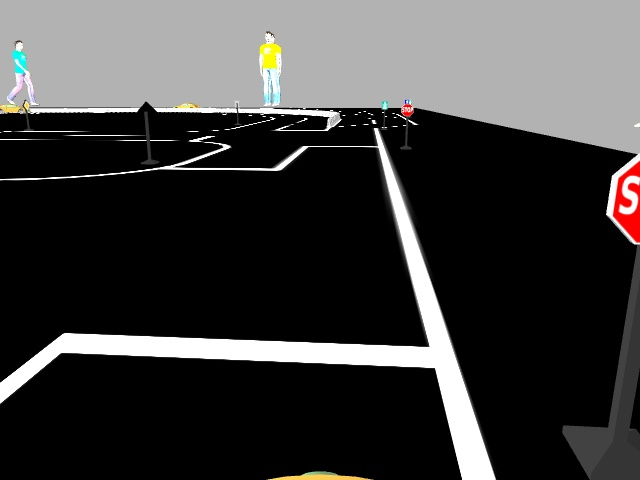Stop: (605, 139, 639, 259)
